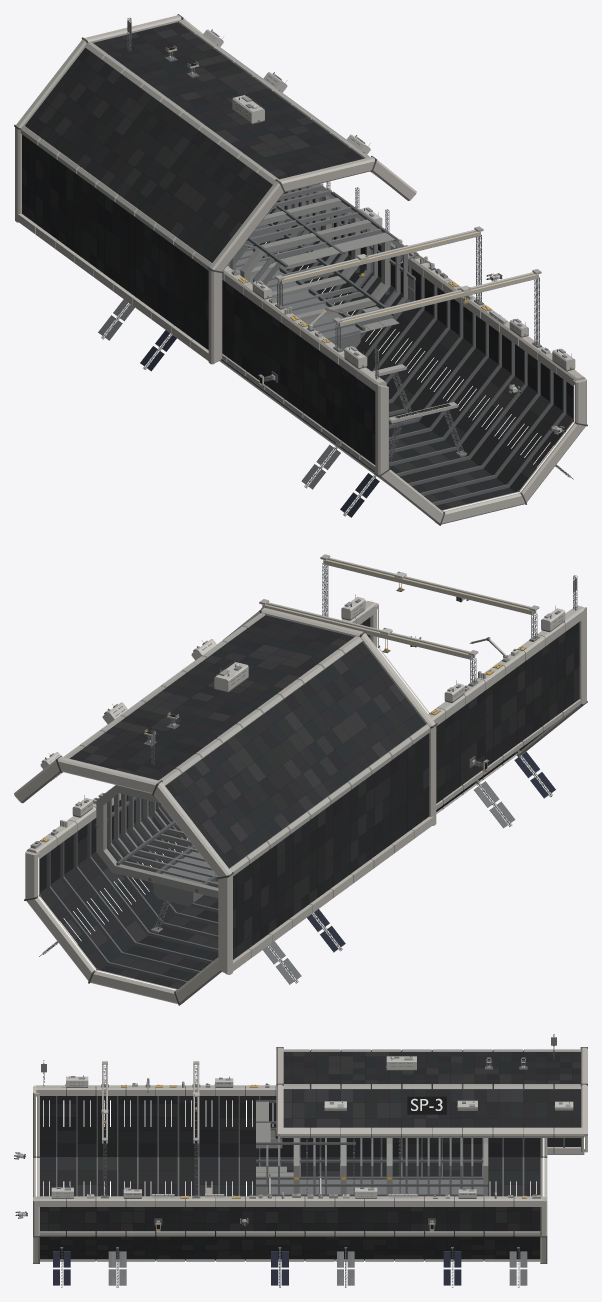
File: spaceport.glb
3 views of the same model, one above another, from view 1: azimuth 30°, elevation 25°; view 2: azimuth 150°, elevation 25°; view 3: azimuth 270°, elevation 25° (orthographic). The views are drawn at different scales.
Parts seen in each view (by area): view 1: hull; view 2: hull; view 3: hull.
Boxes of the visible parts, box(x1,y1,x2,y2) form: hull: box(14, 14, 587, 525); hull: box(14, 554, 587, 1005); hull: box(14, 1034, 587, 1287).
Size of the model in its own units: 481 by 446 by 1131.
16 materials, 8 textured.
